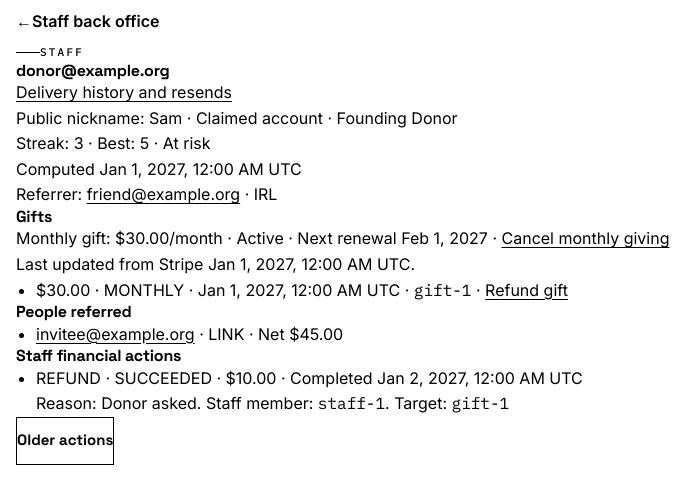
Test: pages through the action history by the offset the API returns
Click the button "Older actions".
click(65, 441)  # box [16,417,114,465]
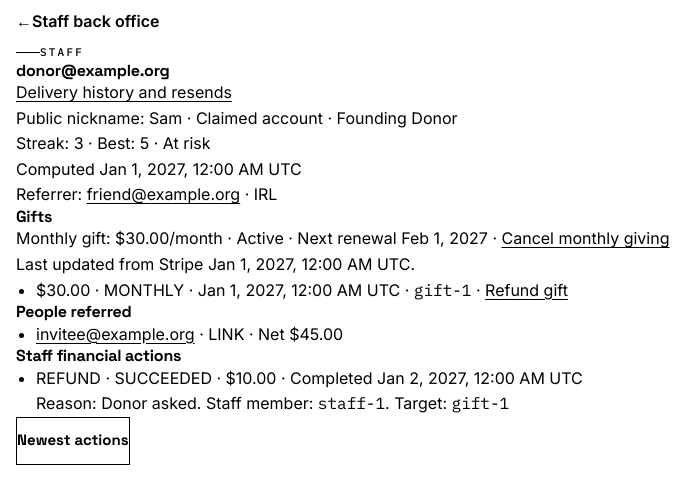
Expected: the button "Newest actions" is shown
Expected: the button "Older actions" is gone
Click the button "Newest actions".
click(73, 441)  # box [16,417,130,465]
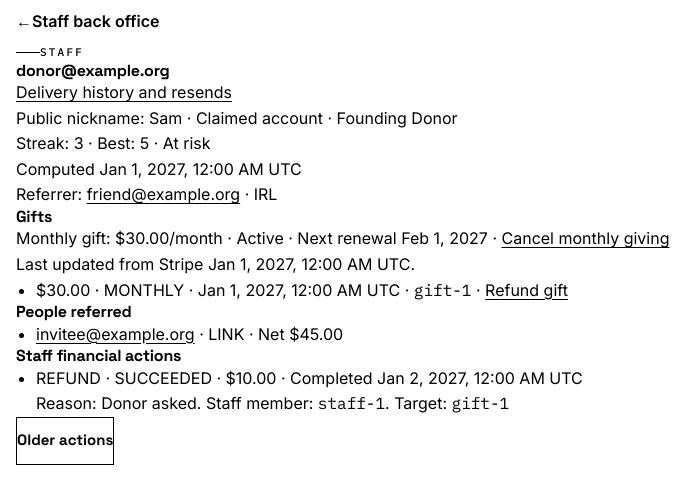
Expected: the button "Older actions" is shown, [16,417,114,465]
